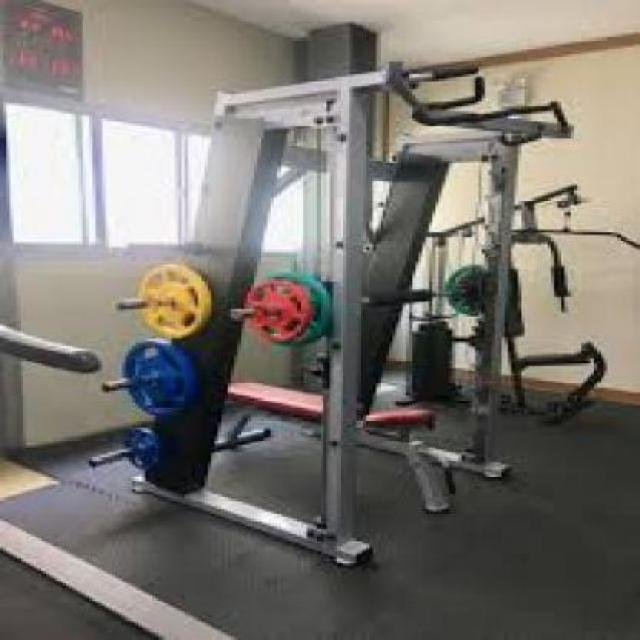smith machine: (129, 62, 523, 570)
